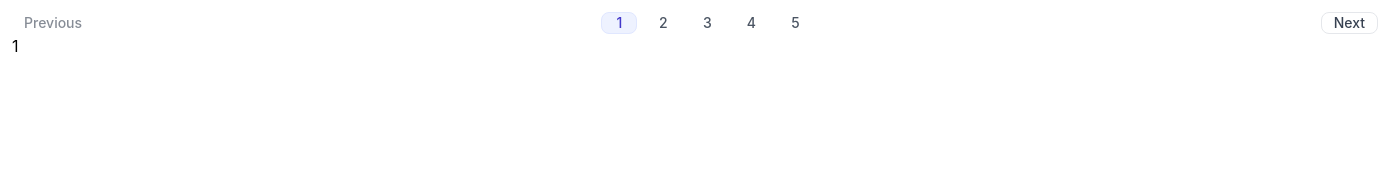
Scenario: Pagination › updates controlled page value when parent state changes
Check: the text with test id "current-page" reads "1", box [12,36,18,56]
Click the button with aria-label "Next page" at (1349, 23), box [1321,12,1378,34]
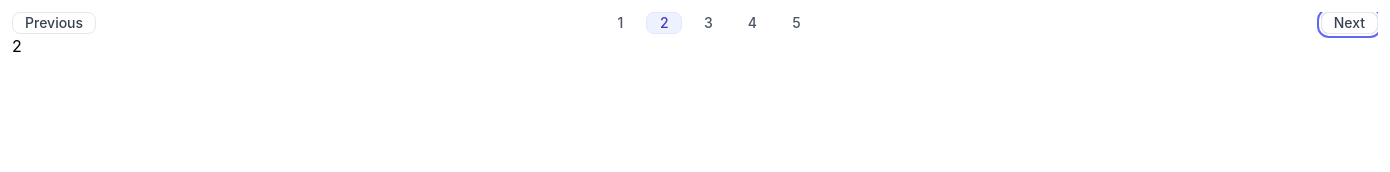
Check: the text with test id "current-page" reads "2", box [12,36,22,56]
Click the button with aria-label "Previous page" at (54, 23), box [12,12,96,34]
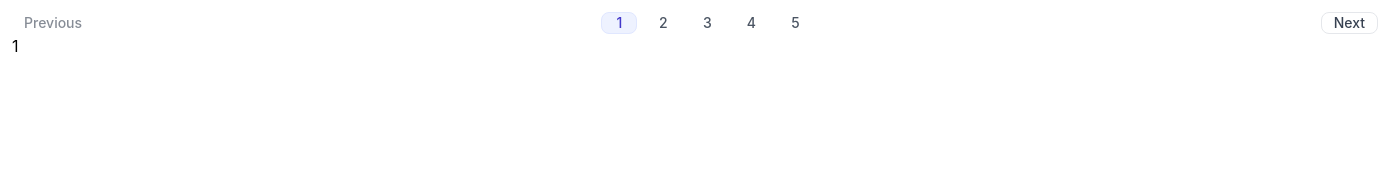
Check: the text with test id "current-page" reads "1", box [12,36,18,56]
